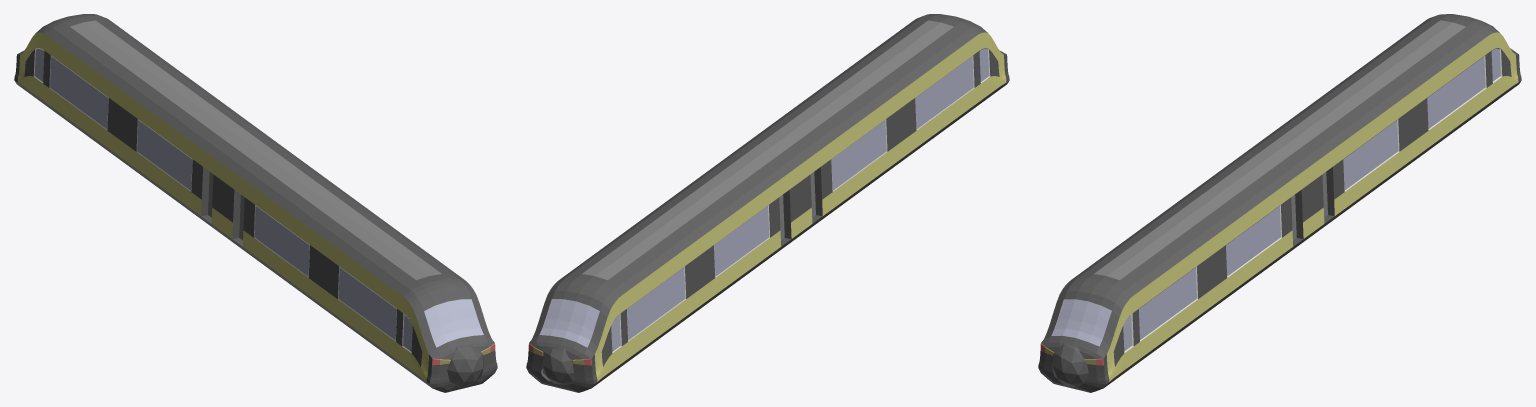
The model's file is train.fbx.
3 views of the same model, side by side, from view 1: azimuth 30°, elevation 25°; view 2: azimuth 150°, elevation 25°; view 3: azimuth 330°, elevation 25° (orthographic).
Visible parts, largest first — view 1: Cylinder.006; view 2: Cylinder.006; view 3: Cylinder.006.
Part boxes in pixels (box(x1,y1,x2,y2)): Cylinder.006: box(14, 14, 497, 392); Cylinder.006: box(526, 14, 1009, 392); Cylinder.006: box(1038, 14, 1521, 392).
Bounding box in the file's own units: 500 × 636 × 5505.
